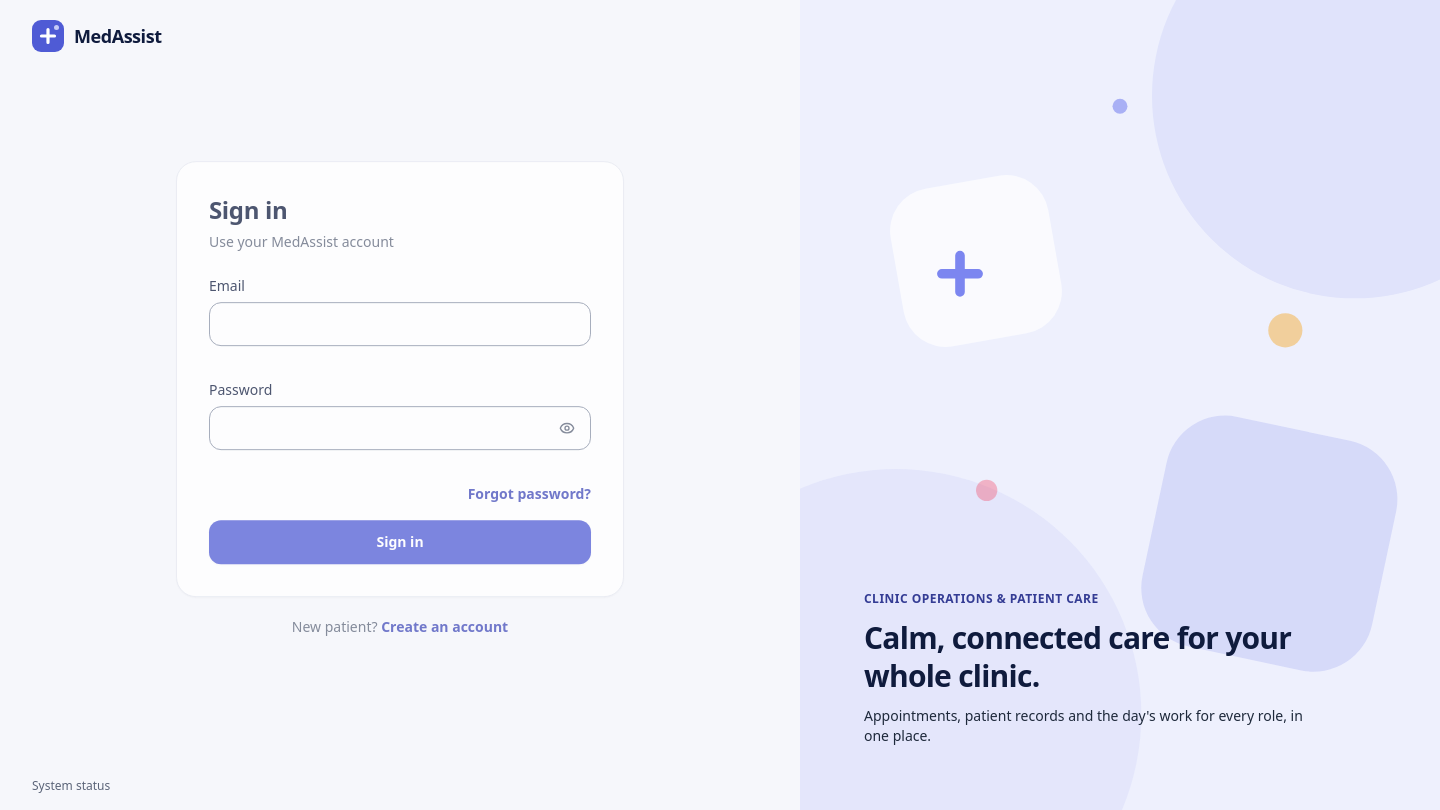
Test: LoginPage › shows the server message for wrong credentials
Expected: the heading "Sign in" is shown, x1=209 y1=193 x2=287 y2=226
Type "dr.mehta@medassist.dev" into the field labelled "Email" at [400, 324], box x1=209 y1=302 x2=591 y2=346
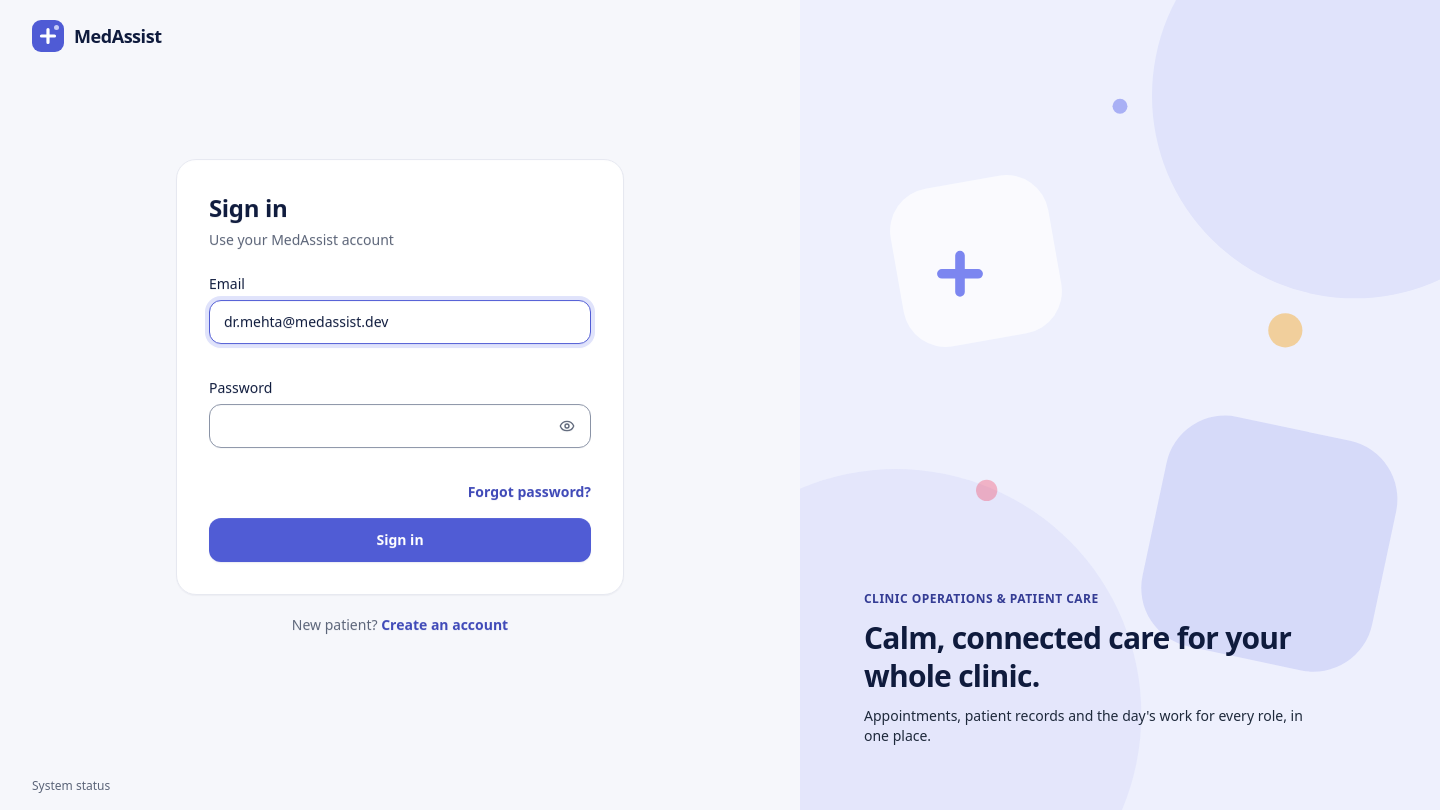
Type "wrong-pass1" into the password field labelled "Password" at [400, 426], box x1=209 y1=404 x2=591 y2=448
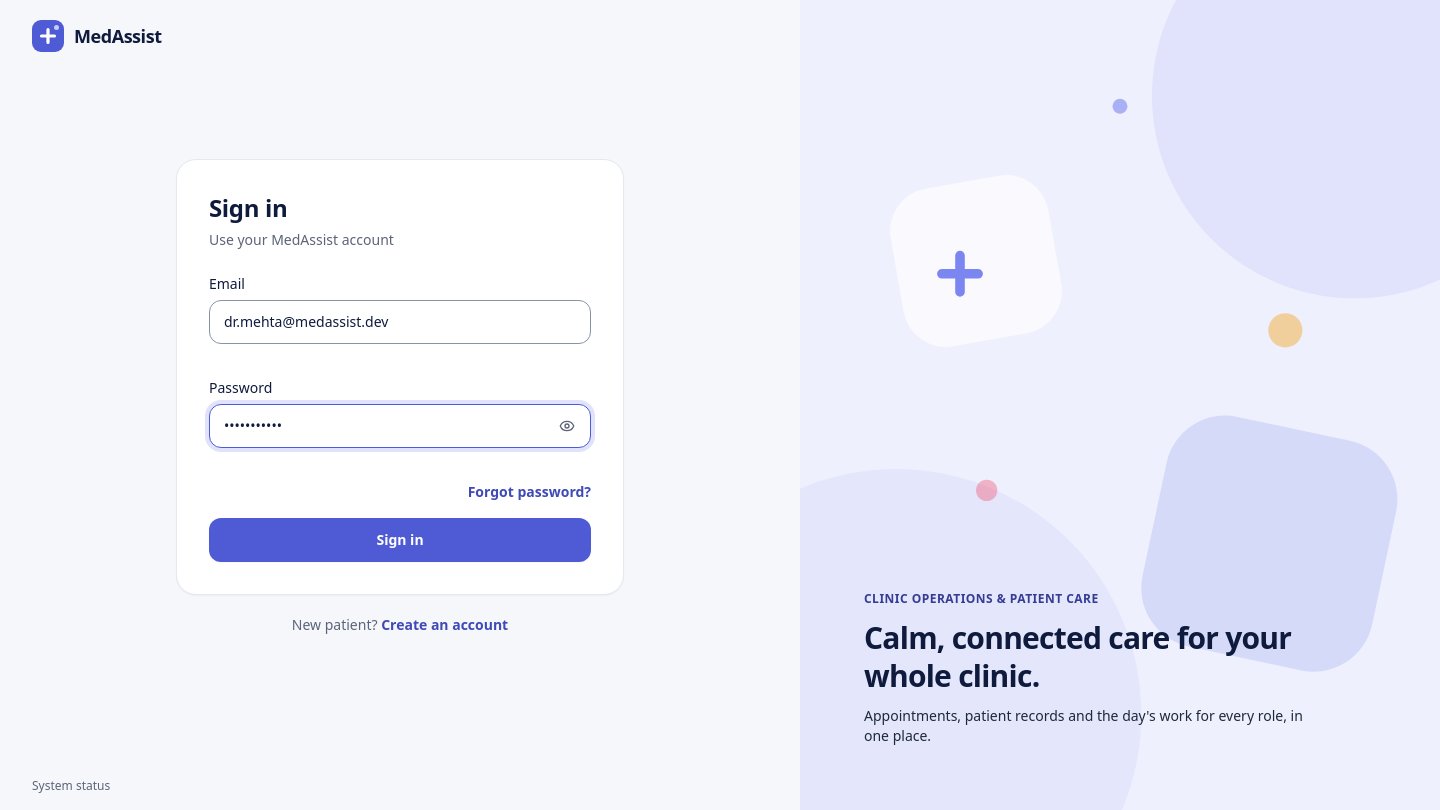
Click the button "Sign in" at [400, 540], box x1=209 y1=518 x2=591 y2=562
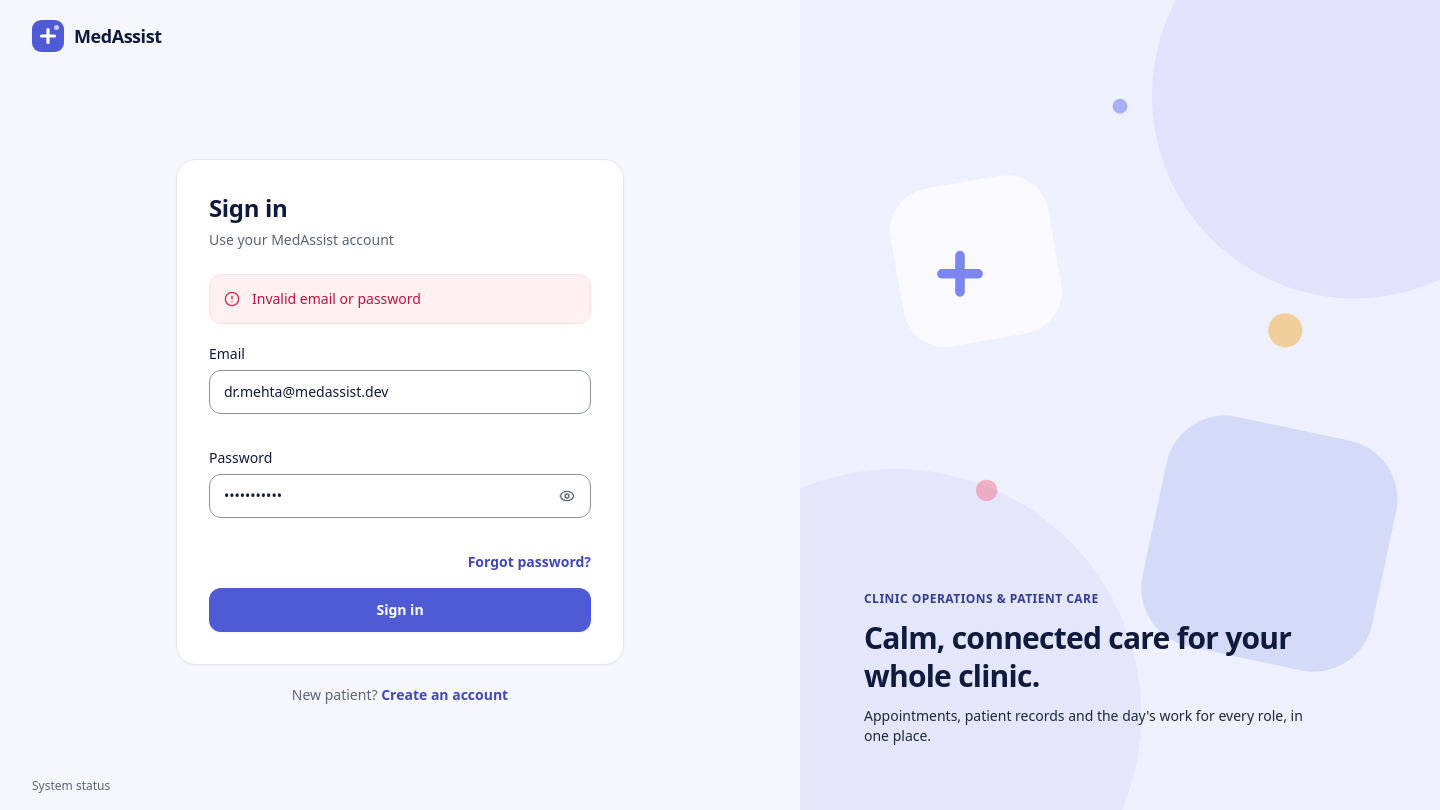
Expected: the message reads "Invalid email or password", x1=252 y1=289 x2=421 y2=308
